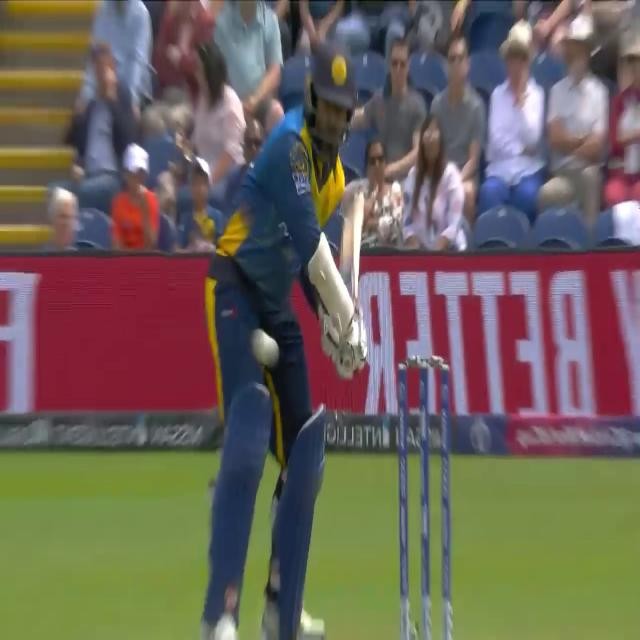ball: (247, 324, 285, 372)
